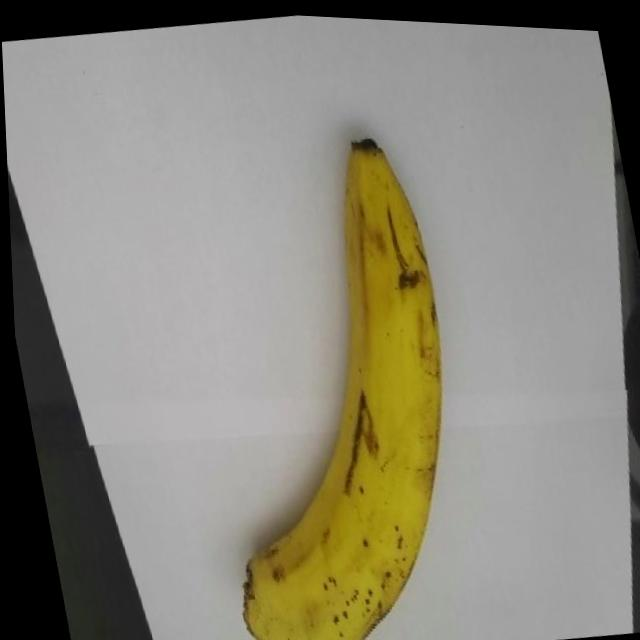Banana: (154, 121, 493, 640)
